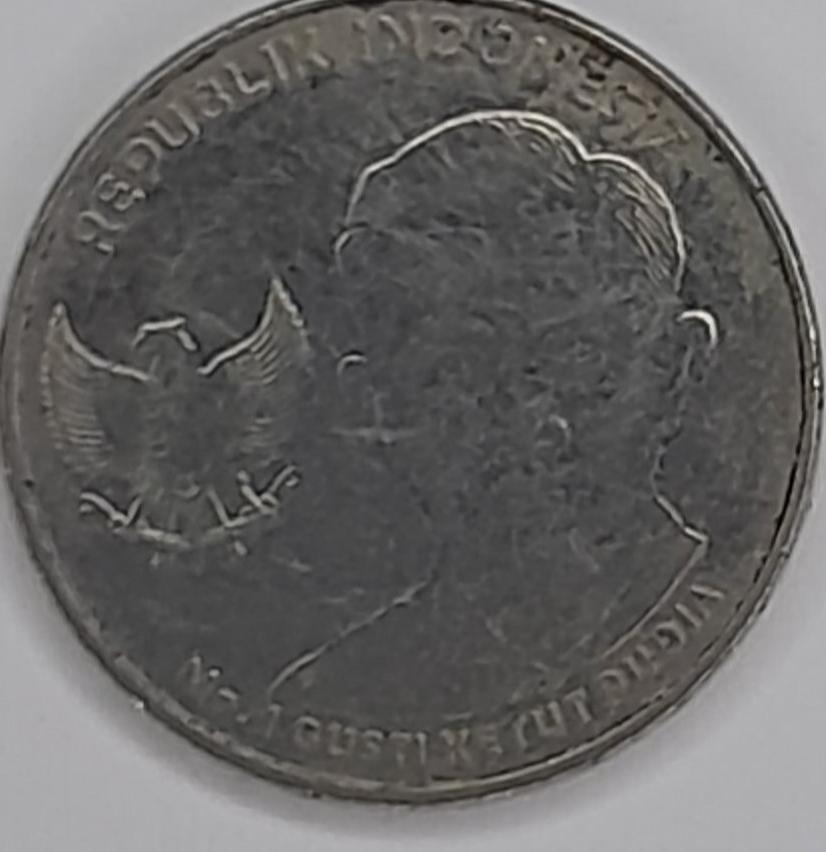coin_1000_e2016: (14, 17, 815, 852)
